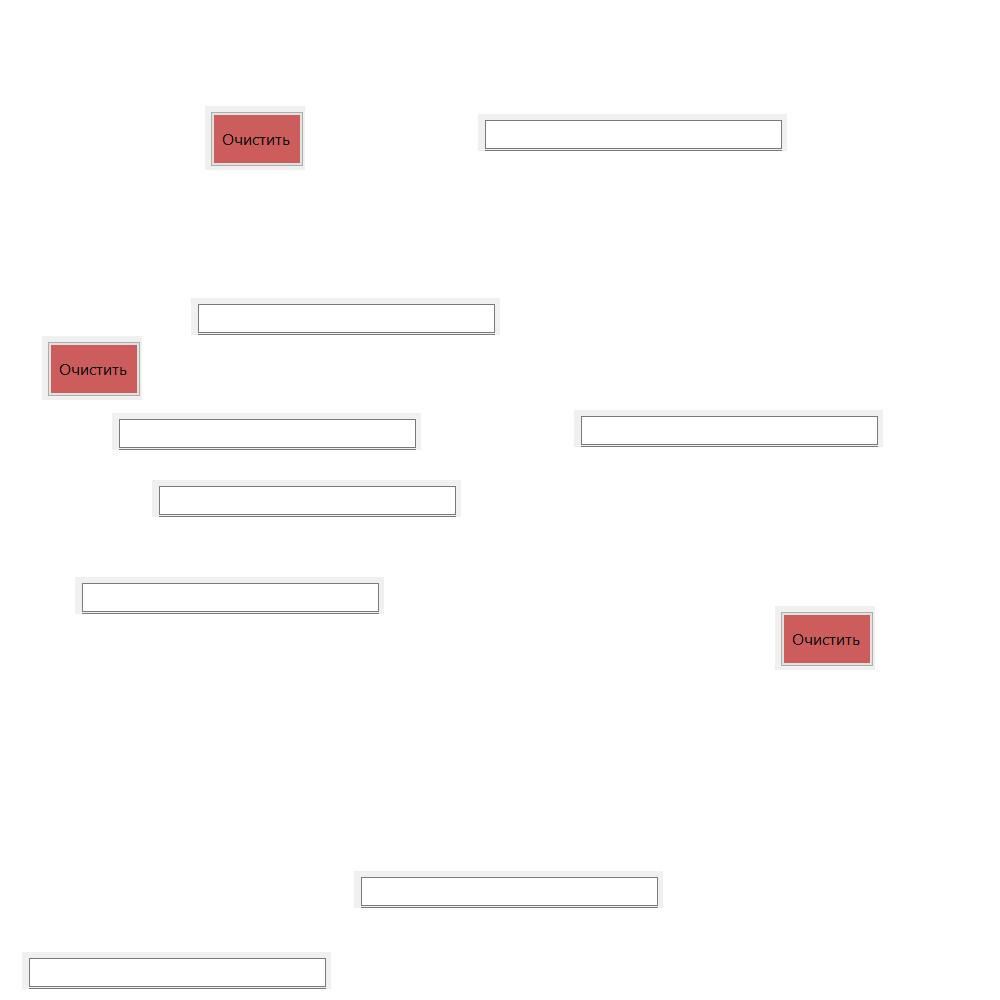Button: (205, 106, 305, 170), (775, 606, 875, 670), (42, 336, 142, 400)
EditText-: (354, 871, 663, 908), (574, 410, 883, 447), (191, 298, 500, 335), (75, 577, 384, 614), (152, 480, 461, 517), (478, 114, 787, 151), (112, 413, 421, 450), (22, 952, 331, 989)
